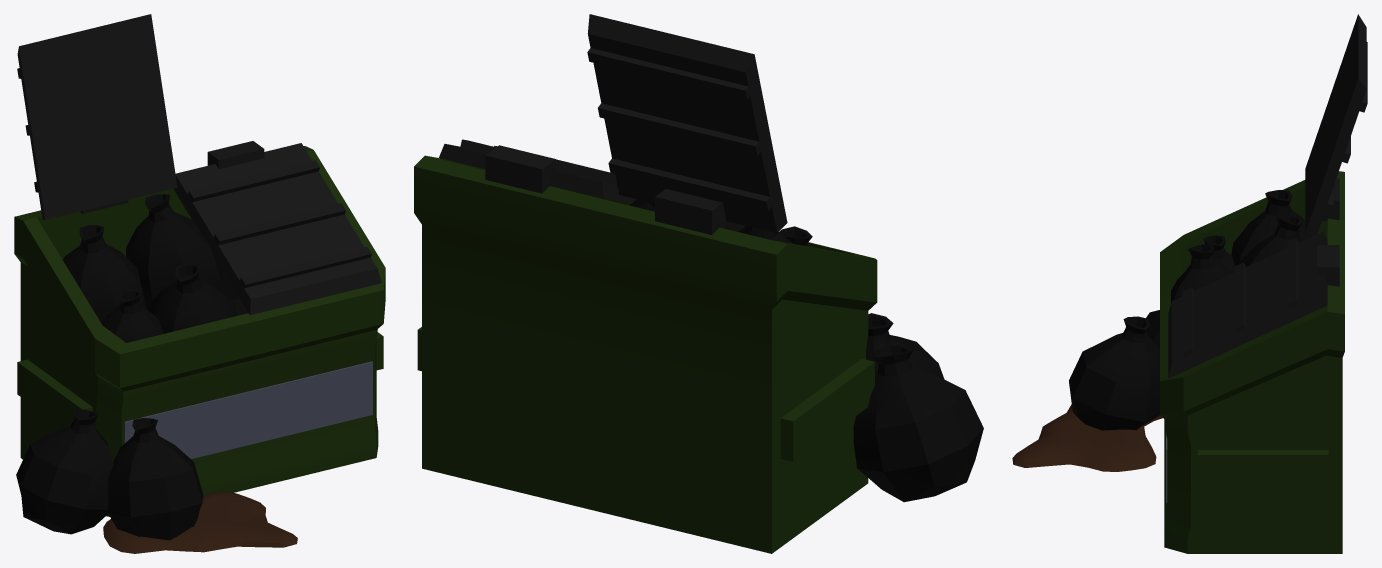
3 renders of one model, left to right at view 1: azimuth 30°, elevation 25°; view 2: azimuth 150°, elevation 25°; view 3: azimuth 270°, elevation 25°, orthographic. The views are drawn at different scales.
Visible parts, largest first — view 1: TrashContainer_Open.001_Cube.130; view 2: TrashContainer_Open.001_Cube.130; view 3: TrashContainer_Open.001_Cube.130.
Part boxes in pixels (x1,y1,x2,y2): TrashContainer_Open.001_Cube.130: (14, 14, 385, 553); TrashContainer_Open.001_Cube.130: (414, 14, 983, 553); TrashContainer_Open.001_Cube.130: (1012, 14, 1367, 553).
Size of the model in its own units: 259 by 273 by 215.
